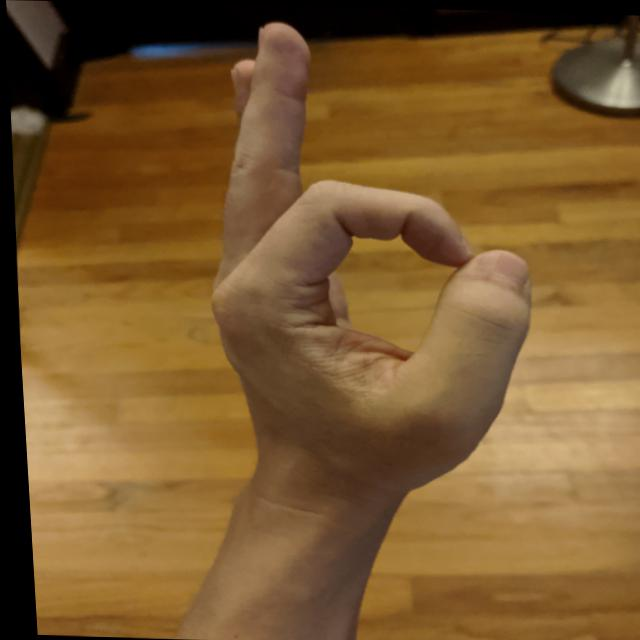F: (178, 14, 550, 500)
